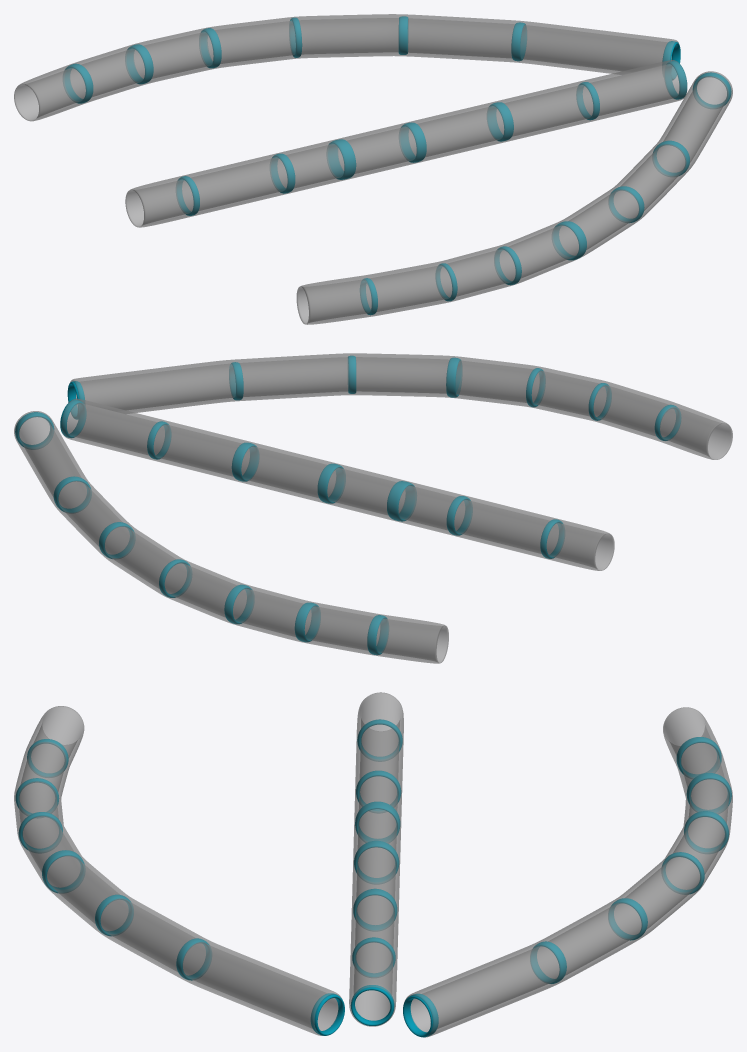
The model's file is tubes (2).FBX.
3 renders of one model, top to bottom at view 1: azimuth 30°, elevation 25°; view 2: azimuth 150°, elevation 25°; view 3: azimuth 270°, elevation 25°, orthographic. The views are drawn at different scales.
Parts seen in each view (by area): view 1: Line003; view 2: Line003; view 3: Line003.
Part boxes in pixels (<box>): Line003: <box>14,14,732,324</box>; Line003: <box>14,353,732,663</box>; Line003: <box>14,692,732,1037</box>.
Bounding box in the file's own units: 249 × 16.19 × 243.
